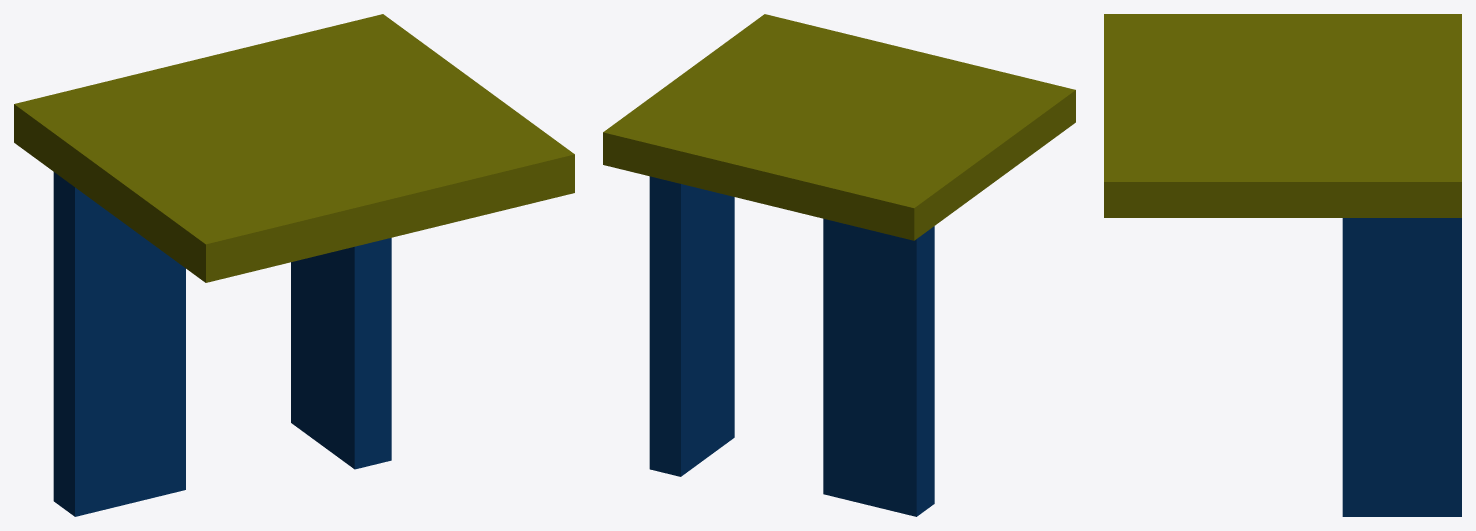
Rendered from T2DirR.fbx.
3 renders of one model, left to right at view 1: azimuth 30°, elevation 25°; view 2: azimuth 150°, elevation 25°; view 3: azimuth 270°, elevation 25°, orthographic. The views are drawn at different scales.
Visible parts, largest first — view 1: 4, 2, 3, 1; view 2: 4, 2, 3, 1; view 3: 2, 1, 3, 4.
Boxes of the visible parts, x1,y1,x2,y2 form: 4: [14, 59, 293, 516]; 2: [199, 14, 478, 469]; 3: [110, 129, 390, 282]; 1: [295, 84, 574, 237]; 4: [758, 111, 994, 516]; 2: [603, 73, 838, 476]; 3: [840, 52, 1075, 181]; 1: [684, 14, 919, 110]; 2: [1283, 98, 1461, 516]; 1: [1104, 98, 1282, 217]; 3: [1104, 14, 1282, 97]; 4: [1283, 14, 1461, 97].
Bounding box in the file's own units: 200 × 200 × 180.
